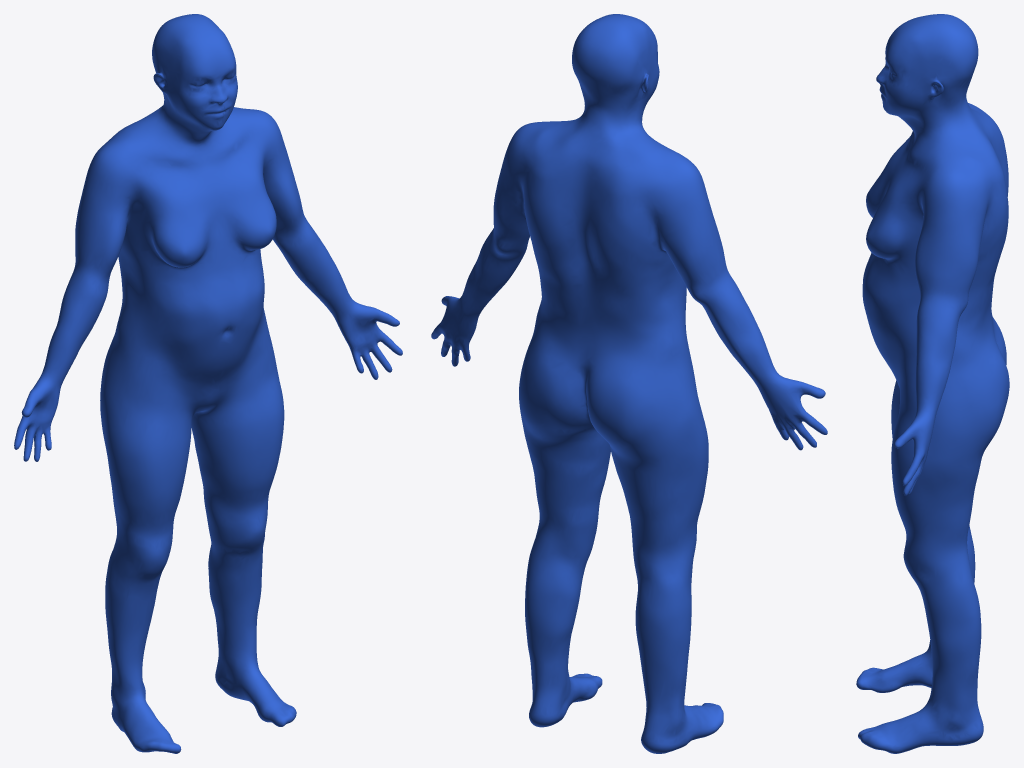
The model's file is reference-female.glb.
3 views of the same model, side by side, from view 1: azimuth 30°, elevation 25°; view 2: azimuth 150°, elevation 25°; view 3: azimuth 270°, elevation 25° (orthographic).
Visible parts, largest first — view 1: VH_F_skin; view 2: VH_F_skin; view 3: VH_F_skin.
Boxes of the visible parts, bbox=[...] form: VH_F_skin: bbox=[14, 14, 402, 753]; VH_F_skin: bbox=[431, 14, 827, 753]; VH_F_skin: bbox=[856, 14, 1009, 753].
Size of the model in its own units: 0.9674 by 1.67 by 0.3292.
